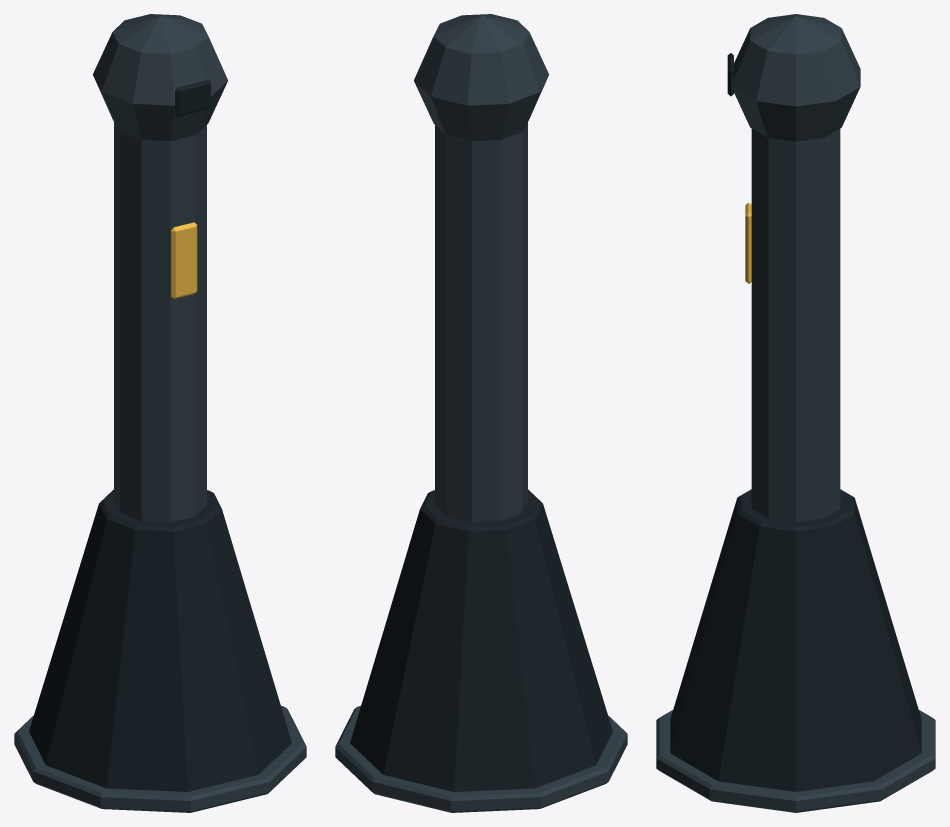
The model's file is b04_cigarette_butt_disposal_tower.glb.
3 renders of one model, left to right at view 1: azimuth 30°, elevation 25°; view 2: azimuth 150°, elevation 25°; view 3: azimuth 270°, elevation 25°, orthographic.
Visible parts, largest first — view 1: b04_cigarette_butt_disposal_tower; view 2: b04_cigarette_butt_disposal_tower; view 3: b04_cigarette_butt_disposal_tower.
Part boxes in pixels (x1,y1,x2,y2): b04_cigarette_butt_disposal_tower: [14, 14, 306, 812]; b04_cigarette_butt_disposal_tower: [335, 14, 627, 812]; b04_cigarette_butt_disposal_tower: [656, 14, 935, 812].
Bounding box in the file's own units: 0.41 × 1.13 × 0.3899.
